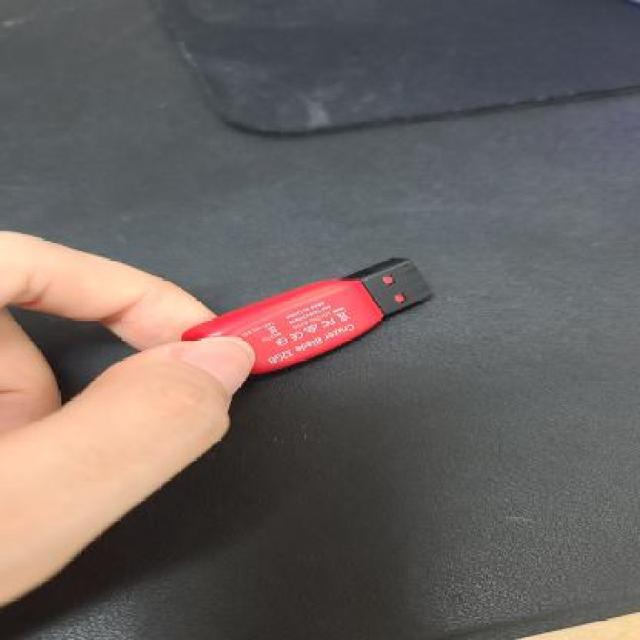Flashdisk: (182, 256, 438, 376)
